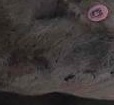text: (85, 2, 110, 25)
